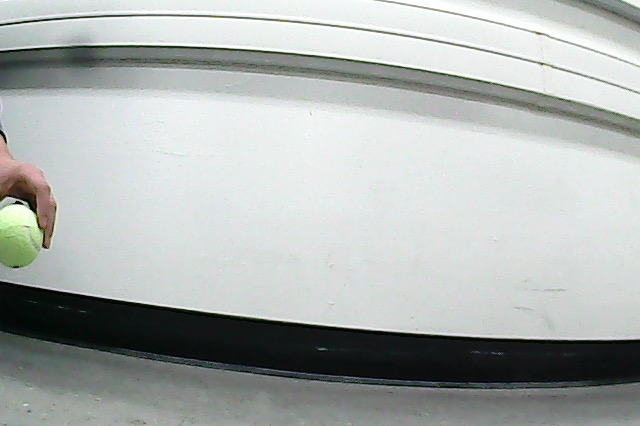ball: (1, 206, 43, 268)
